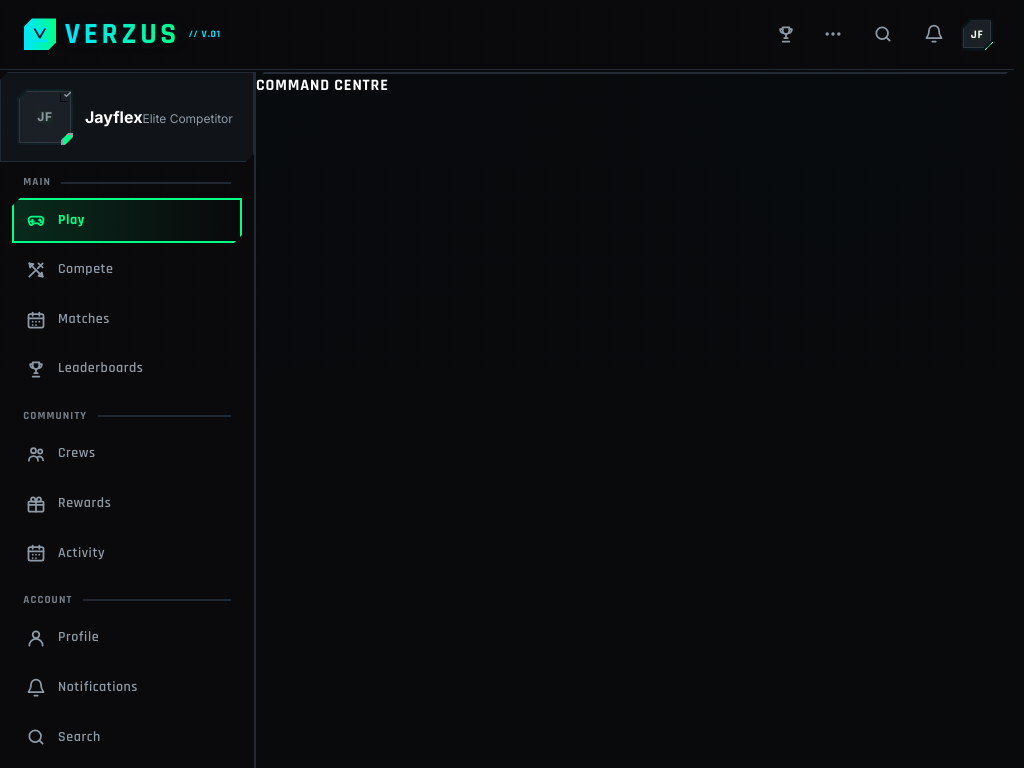
AppShell › opens the navigation drawer without replacing page content
Click the button named "Open navigation menu": coordinates (833, 34) left=809, top=10, right=857, bottom=58
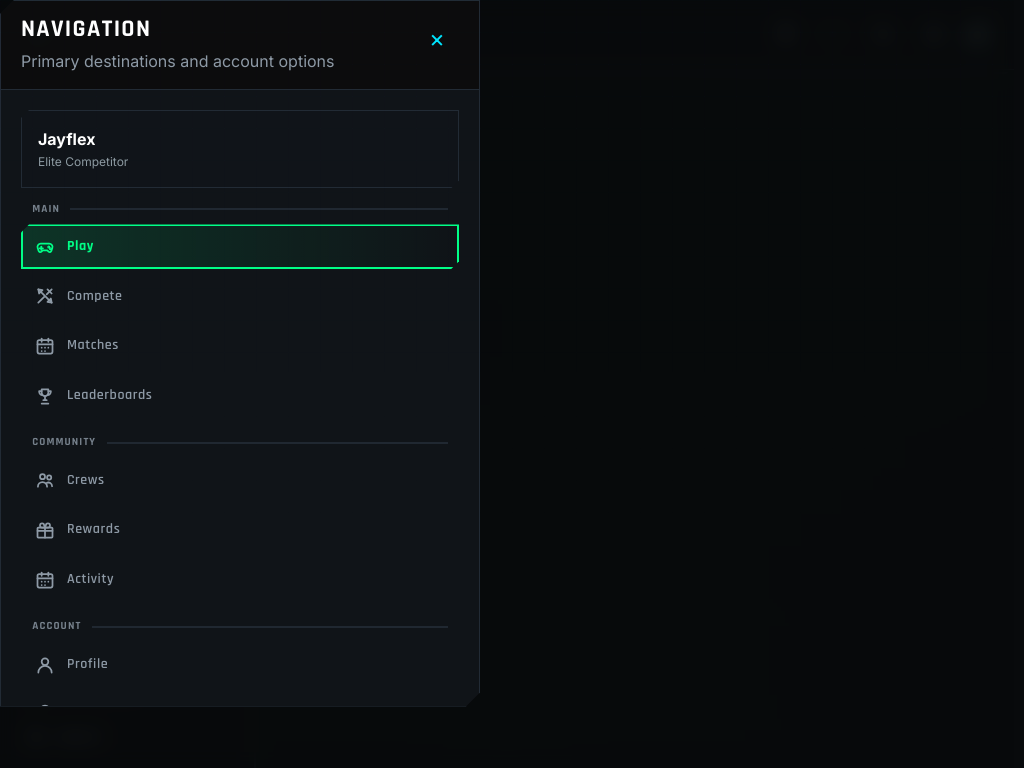
Expected: the heading "Command centre" is shown, left=256, top=75, right=389, bottom=96
Expected: the dialog "Navigation" is shown, left=0, top=0, right=480, bottom=706
